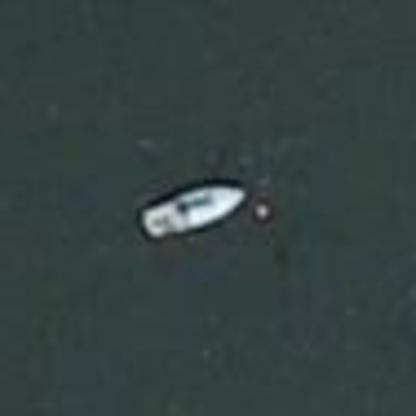ship: (128, 170, 281, 252)
